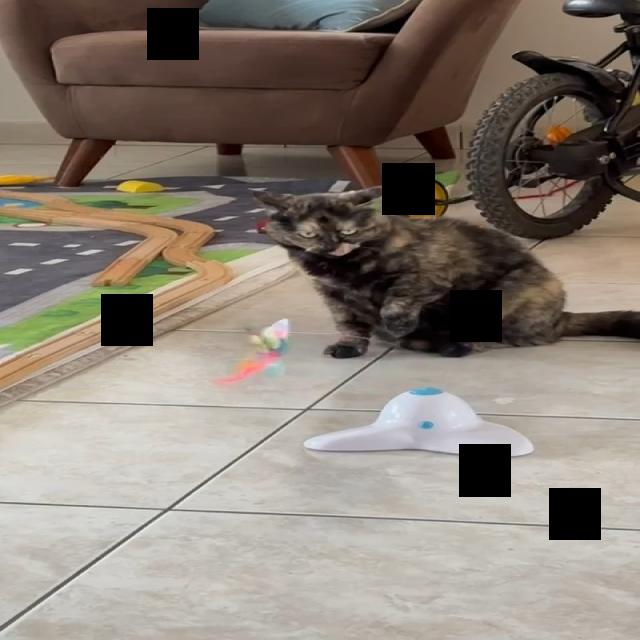authorized: (251, 184, 638, 359)
